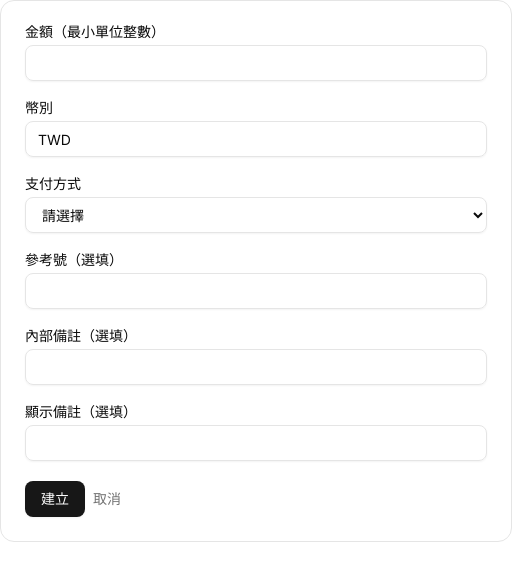
Scenario: CreateDepositForm › should show a validation error when no payment method is chosen
In the number field labelled "金額（最小單位整數）": (256, 63) [25,45,487,81], type "1000"
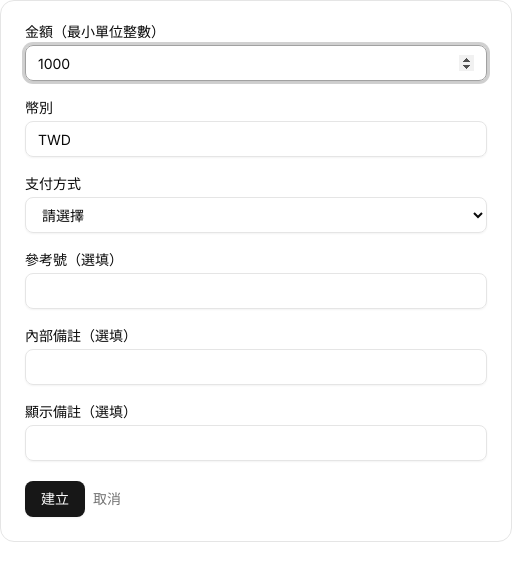
Click the button "建立": (55, 499) [25,481,85,517]
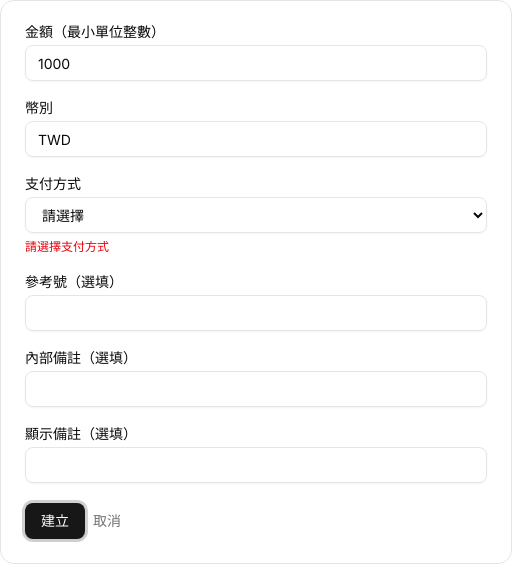
Result: the text "請選擇支付方式" is shown at [25,239,109,254]
